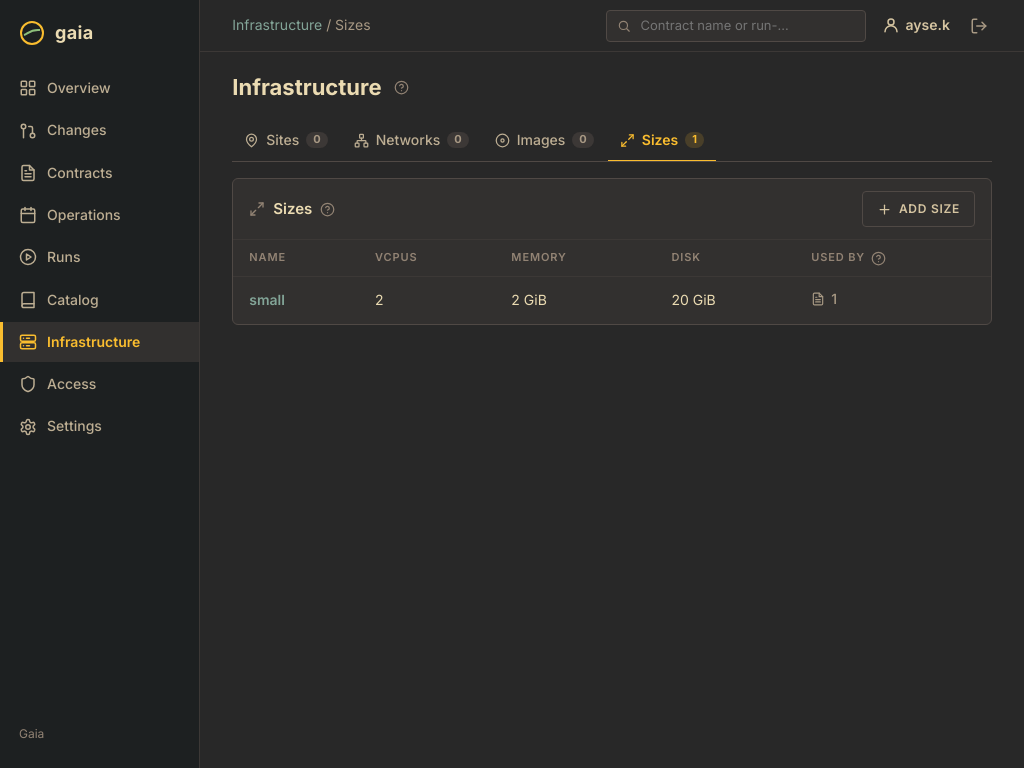
Test: settings changes › adds an object through the form, checks it and proposes it
The width and height of the screenshot is (1024, 768).
Click the button "Add Size": (918,209) [862, 191, 975, 227]
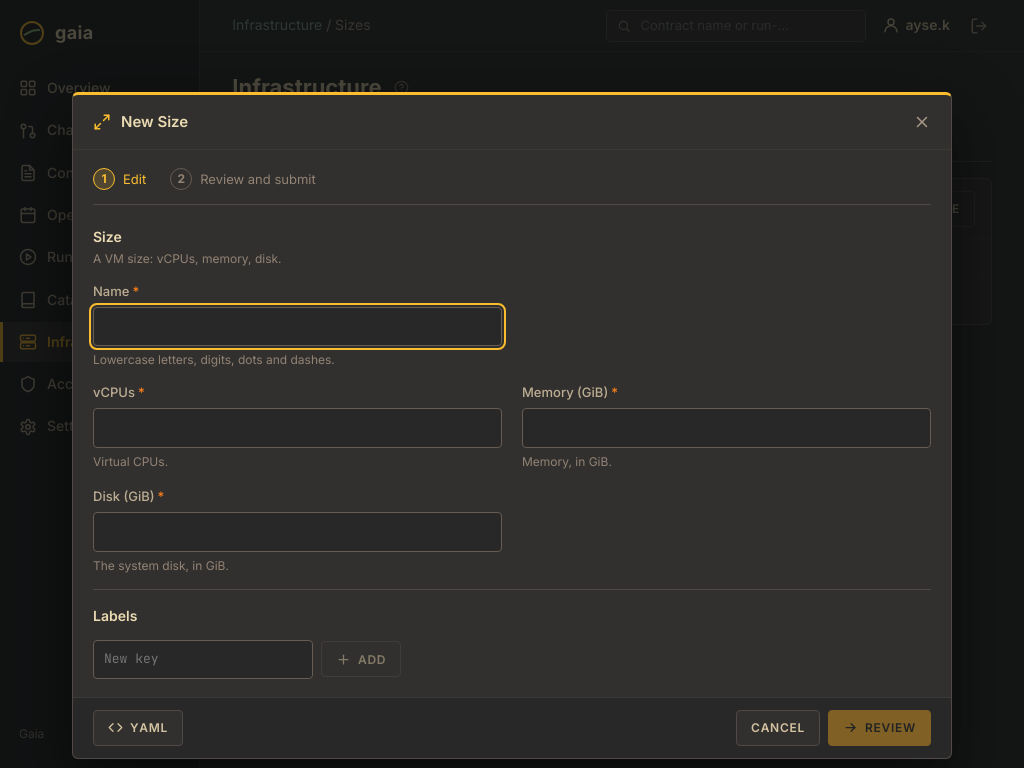
In the field labelled "Name*": (298,326) [93, 307, 502, 346], type "tiny"
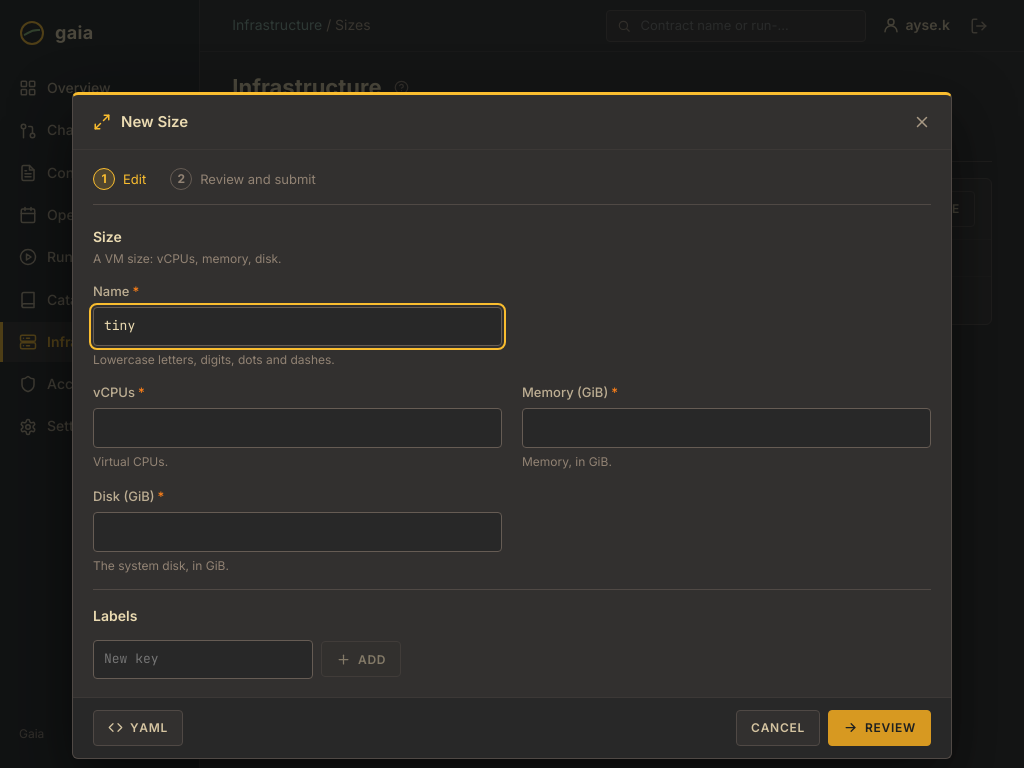
In the number field labelled "vCPUs*": (298,428) [93, 408, 502, 448], type "8"
Click the button "YAML": (138,728) [93, 710, 183, 746]
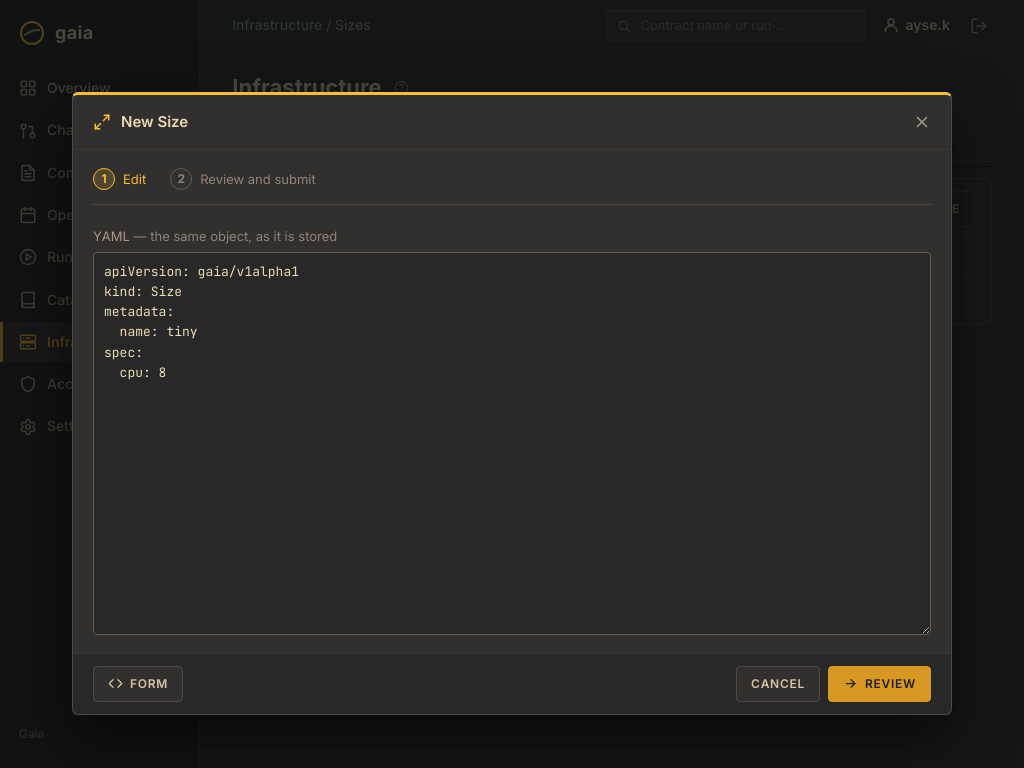
Click the button "Form": (138,684) [93, 666, 183, 702]
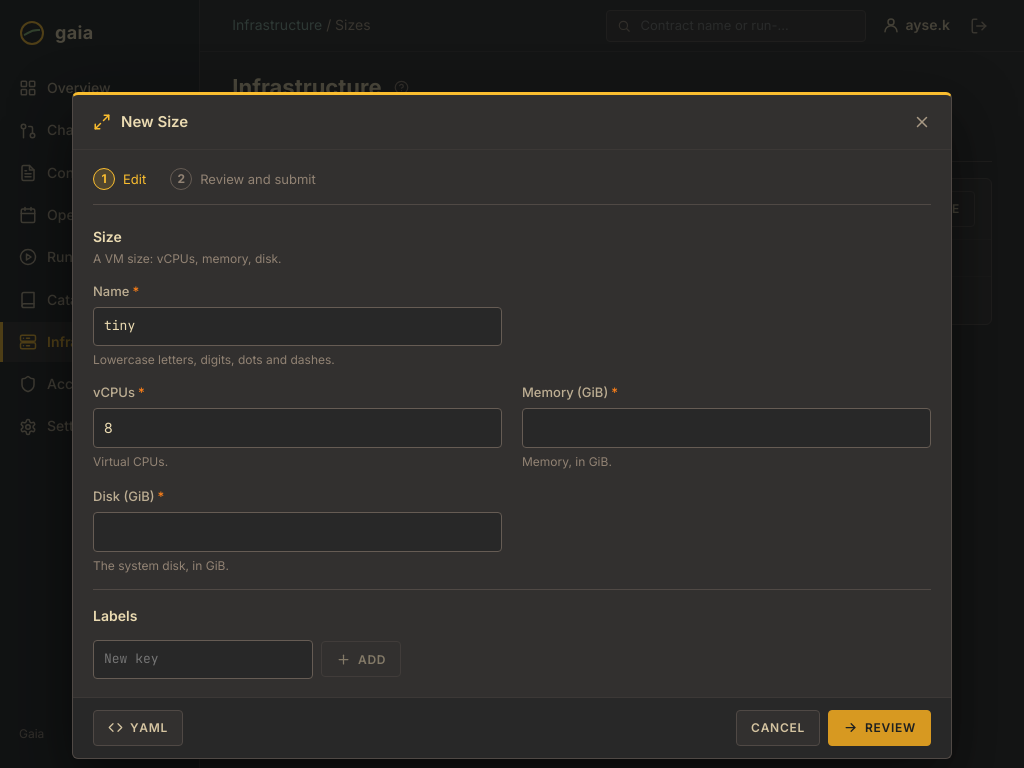
Click the button "Review": (880,728) [828, 710, 931, 746]
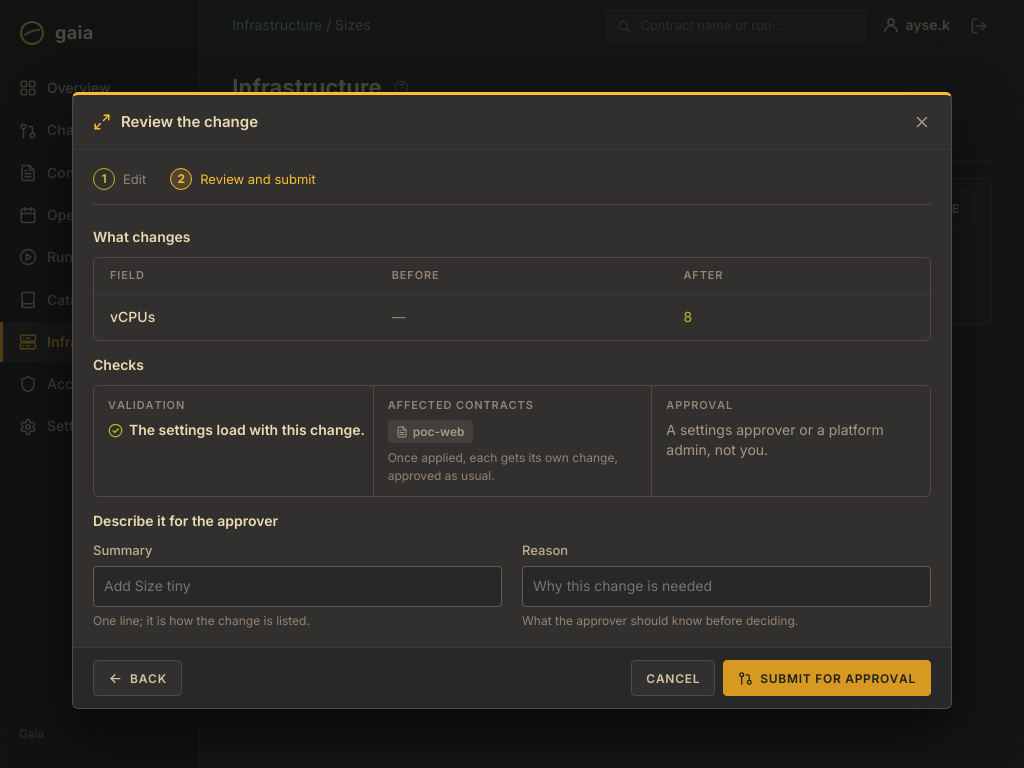
expect the heading "What changes" is shown: met, box [93, 228, 190, 245]
expect the text "vCPUs" shows "8": met, box [683, 308, 692, 325]
expect the link "poc-web" is shown: met, box [388, 420, 472, 443]
In the field labelled "Reason": (726,586) [522, 566, 931, 606], type "a small one"
Click the button "Submit for approval": (827,678) [723, 660, 931, 696]
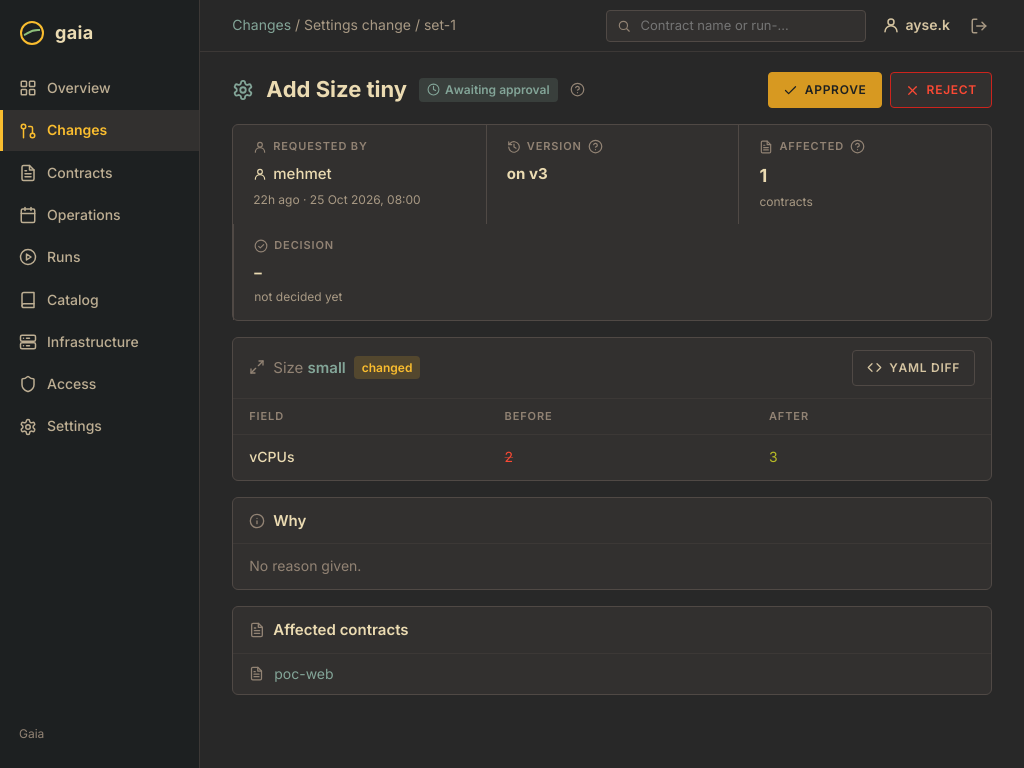
expect the heading "Add Size tiny" is shown: met, box [266, 74, 407, 106]
